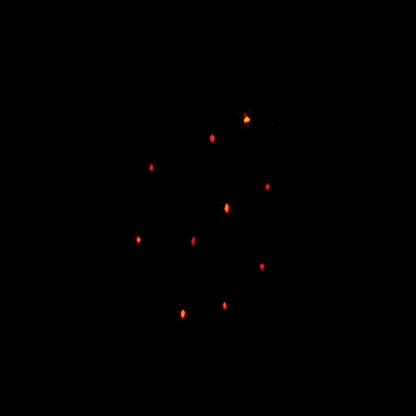PET: (168, 216, 211, 272), (136, 141, 169, 190), (248, 241, 279, 293), (256, 167, 281, 213), (198, 123, 225, 160)
PVC: (213, 288, 239, 324), (236, 102, 259, 139), (171, 296, 193, 329), (216, 191, 237, 222), (130, 224, 151, 253)
